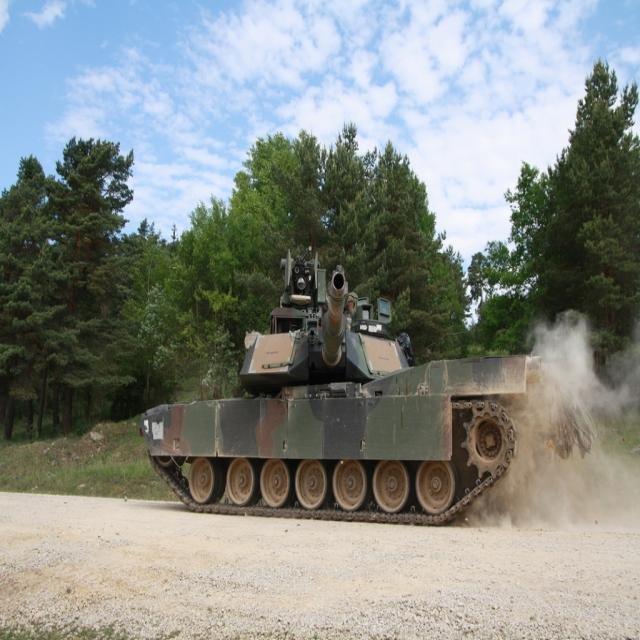tank: (138, 244, 596, 523)
